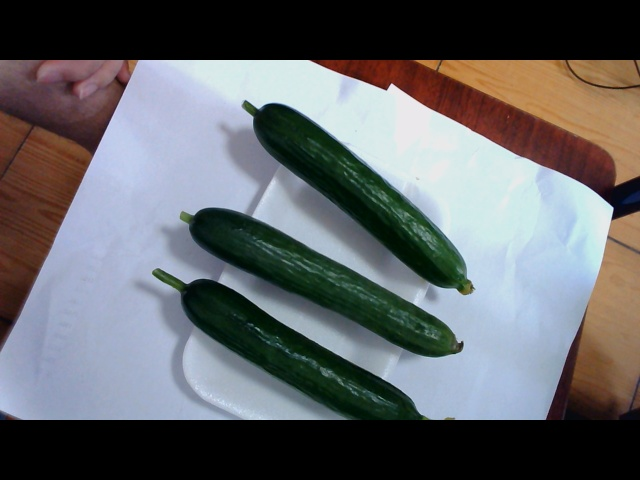cucumber: (171, 104, 494, 418)
